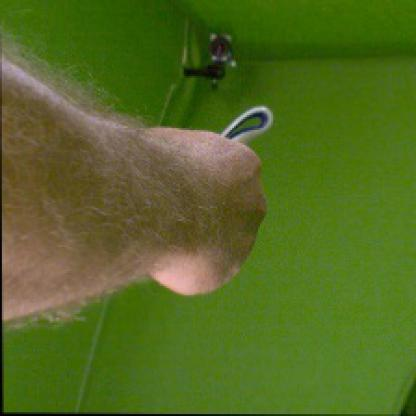Hand: (137, 125, 268, 297)
